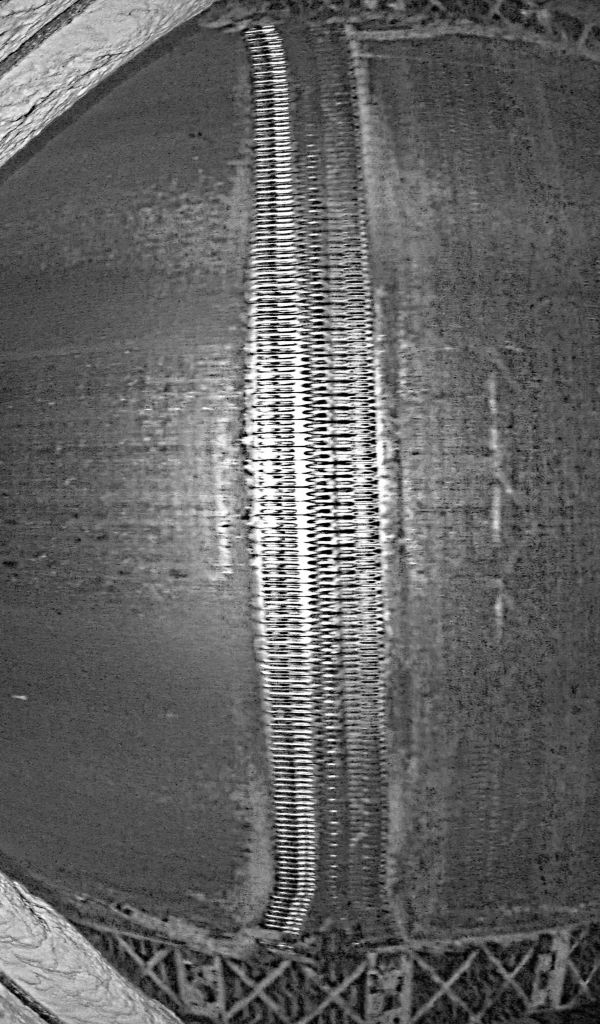damage: (262, 868, 403, 944)
splice: (236, 24, 404, 950)
